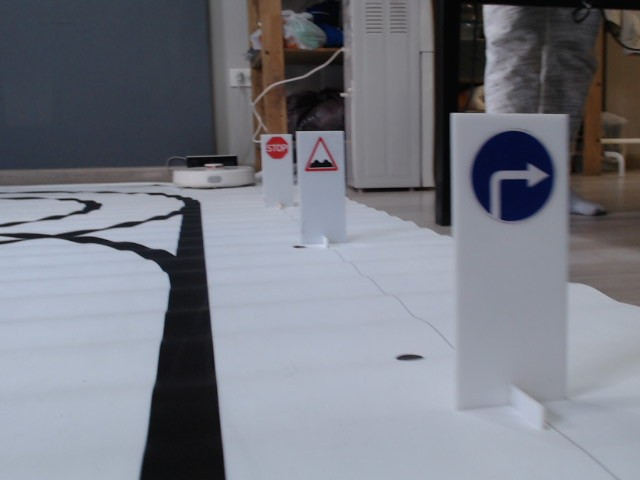Nerov: (304, 137, 337, 175)
Right: (467, 130, 561, 223)
Stop: (265, 135, 289, 160)
